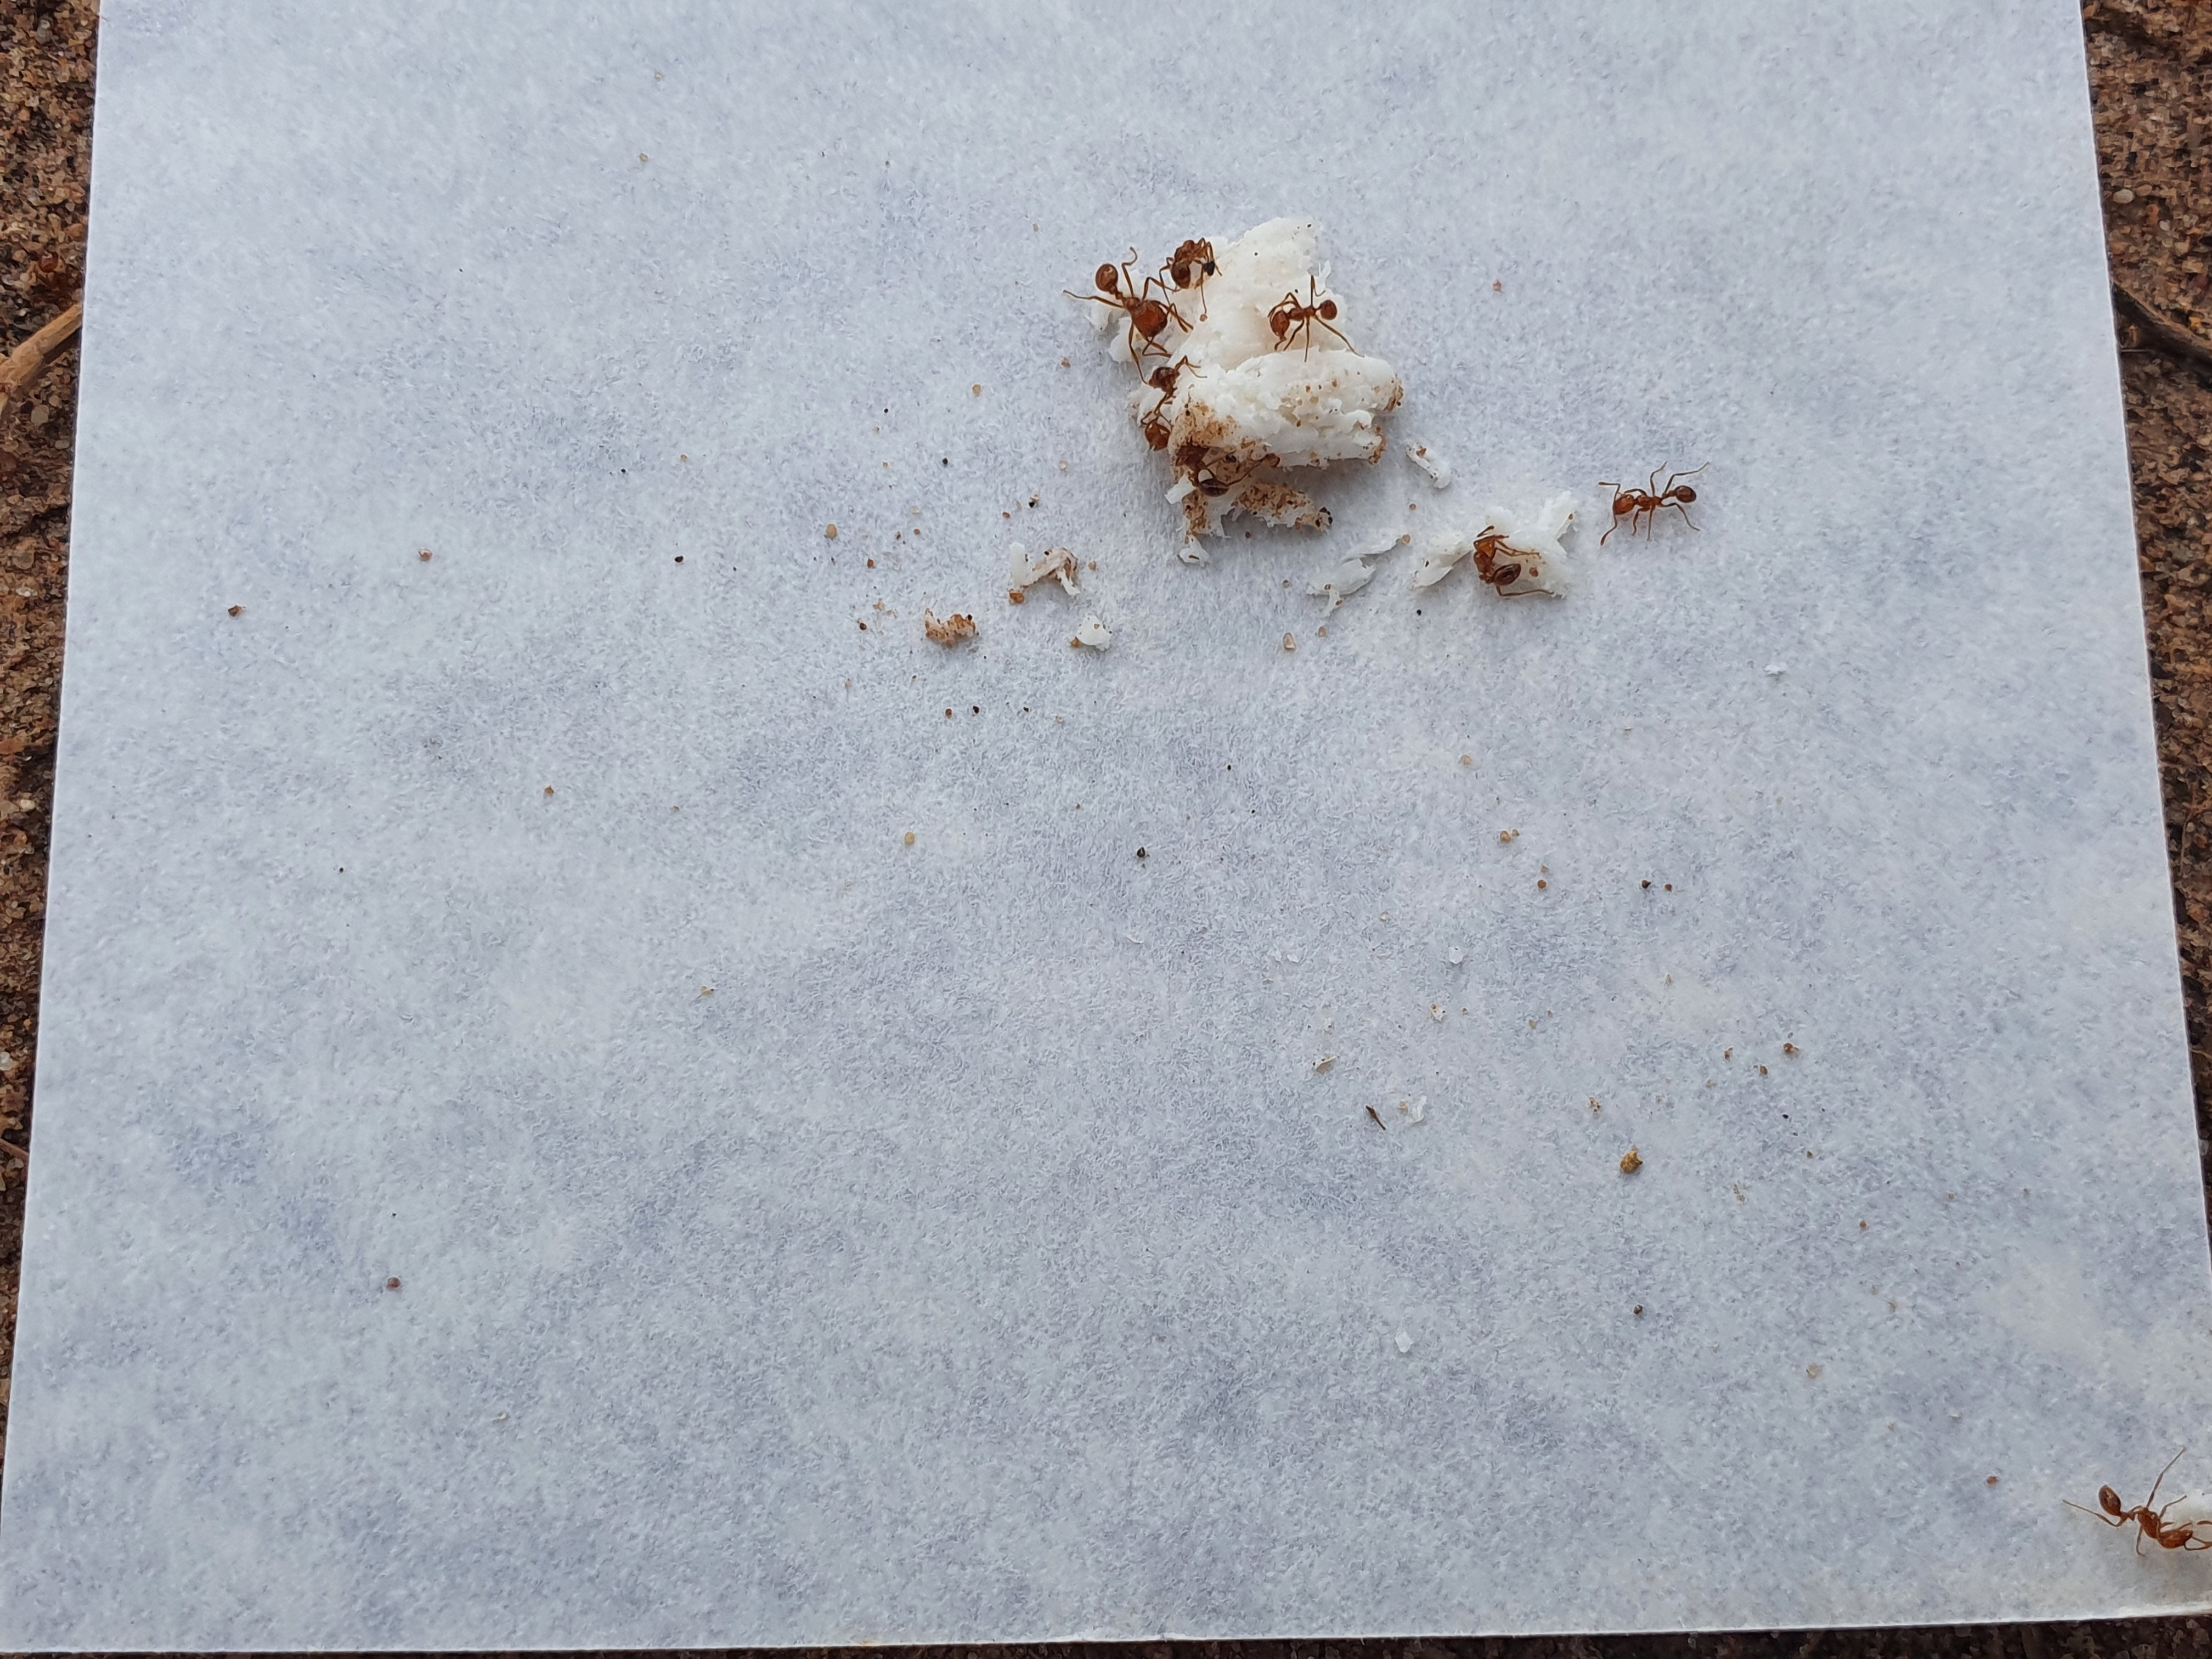Solenopsis_geminata: (2050, 1436, 2212, 1596), (1578, 443, 1721, 579), (1049, 244, 1184, 364), (1245, 256, 1369, 382)
